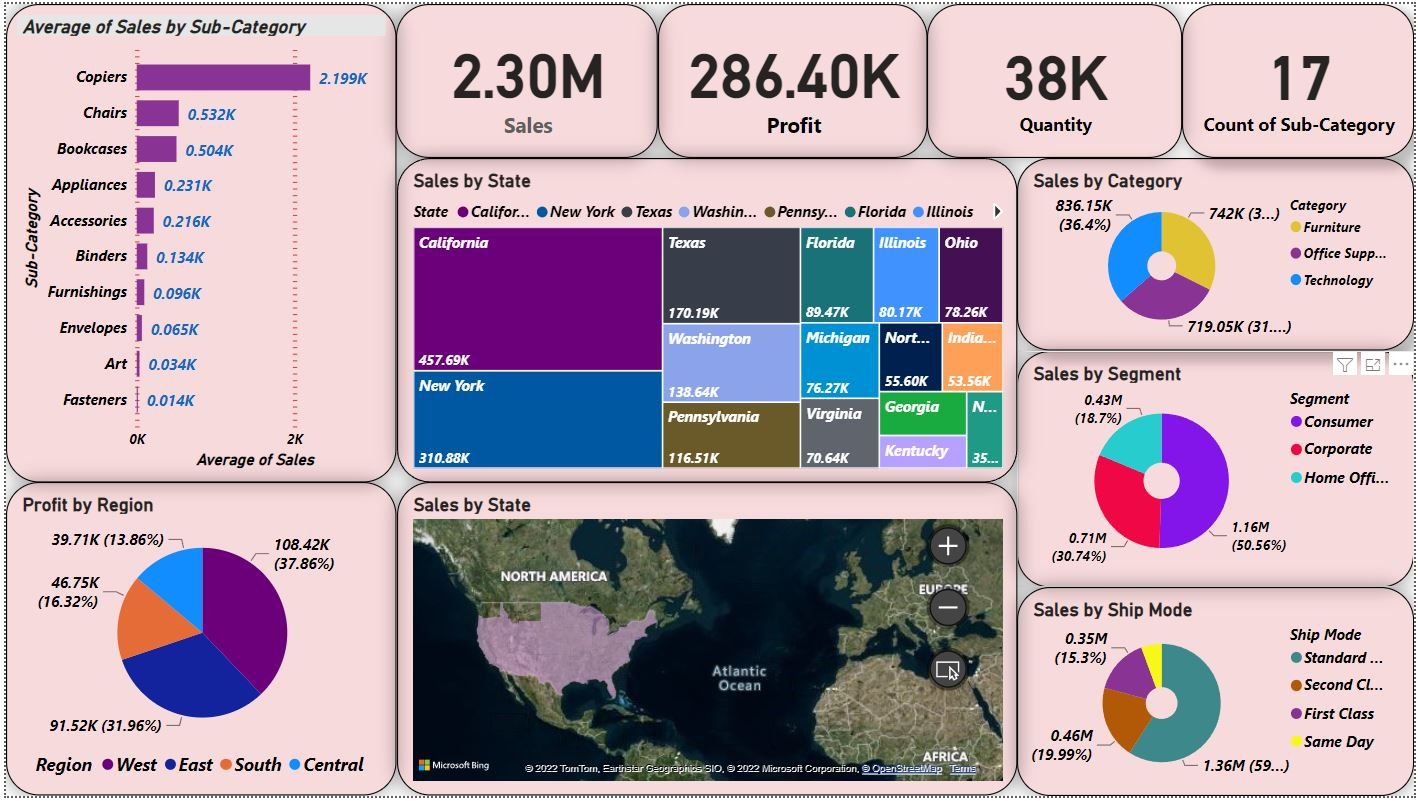

Layout of this report page (visuals, bound fields, positions):
{"tool":"powerbi","page":{"name":"Business Dashboard","canvas":[1280,720],"ordinal":0},"visuals":[{"type":"pieChart","fields":{"Category":["SampleSuperstore.Region"],"Y":["Sum(SampleSuperstore.Profit)"]},"box":[0,434.5,355.5,285.5],"z":0},{"type":"card","fields":{"Values":["Sum(SampleSuperstore.Sales)"]},"box":[354.7,0,237.6,140.1],"z":1000},{"type":"card","fields":{"Values":["Sum(SampleSuperstore.Profit)"]},"box":[592.3,0,244.7,140.1],"z":2000},{"type":"card","fields":{"Values":["Sum(SampleSuperstore.Quantity)"]},"box":[837,0,232.3,140.1],"z":3000},{"type":"card","fields":{"Values":["Count(SampleSuperstore.Sub-Category)"]},"box":[1069.2,0,210.8,140],"z":4000},{"type":"barChart","fields":{"Y":["Avg(SampleSuperstore.Sales)"],"Category":["SampleSuperstore.Sub-Category"]},"box":[0,0,355.5,434.5],"z":5000},{"type":"donutChart","fields":{"Y":["Sum(SampleSuperstore.Sales)"],"Series":["SampleSuperstore.Category"]},"box":[919.1,140.1,360.9,174.7],"z":6000},{"type":"donutChart","fields":{"Y":["Sum(SampleSuperstore.Sales)"],"Category":["SampleSuperstore.Segment"]},"box":[919.1,315.1,360.9,215],"z":7000},{"type":"donutChart","fields":{"Y":["Sum(SampleSuperstore.Sales)"],"Category":["SampleSuperstore.Ship Mode"]},"box":[919.1,530.1,360.9,189.7],"z":8000},{"type":"filledMap","fields":{"Category":["SampleSuperstore.State"]},"box":[355,434.8,564.1,285],"z":8001},{"type":"treemap","fields":{"Values":["Sum(SampleSuperstore.Sales)"],"Group":["SampleSuperstore.State"]},"box":[355,140.1,564.1,294.7],"z":8002}]}

Visuals, with their boxes in screenshot pixels (x1, y1, x2, y2), scaled from the page's 1280x720 canvas onto the 1418x801 screenshot:
pieChart - SampleSuperstore.Region x Sum(SampleSuperstore.Profit): x1=0, y1=483, x2=394, y2=800
card - Sum(SampleSuperstore.Sales): x1=393, y1=0, x2=656, y2=156
card - Sum(SampleSuperstore.Profit): x1=656, y1=0, x2=927, y2=156
card - Sum(SampleSuperstore.Quantity): x1=927, y1=0, x2=1185, y2=156
card - Count(SampleSuperstore.Sub-Category): x1=1184, y1=0, x2=1417, y2=156
barChart - Avg(SampleSuperstore.Sales) x SampleSuperstore.Sub-Category: x1=0, y1=0, x2=394, y2=483
donutChart - Sum(SampleSuperstore.Sales) x SampleSuperstore.Category: x1=1018, y1=156, x2=1417, y2=350
donutChart - Sum(SampleSuperstore.Sales) x SampleSuperstore.Segment: x1=1018, y1=351, x2=1417, y2=590
donutChart - Sum(SampleSuperstore.Sales) x SampleSuperstore.Ship Mode: x1=1018, y1=590, x2=1417, y2=800
filledMap - SampleSuperstore.State: x1=393, y1=484, x2=1018, y2=800
treemap - Sum(SampleSuperstore.Sales) x SampleSuperstore.State: x1=393, y1=156, x2=1018, y2=484
